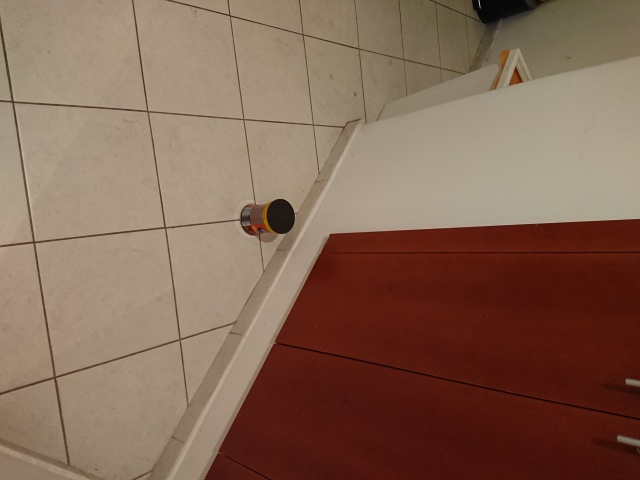Nescafe Classic 225g: (237, 196, 298, 239)
